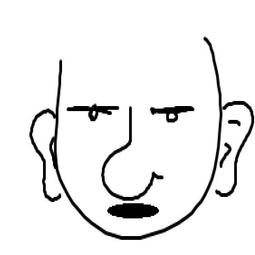large_ear: (207, 94, 253, 204), (24, 107, 64, 204)
large_nose: (98, 103, 167, 203)
open_mouth: (102, 201, 161, 220)
small_eye: (66, 96, 122, 123), (145, 93, 191, 125)
